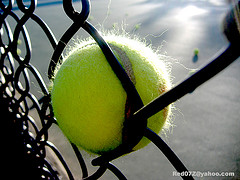tennis ball: (48, 33, 171, 157), (191, 48, 199, 55)
